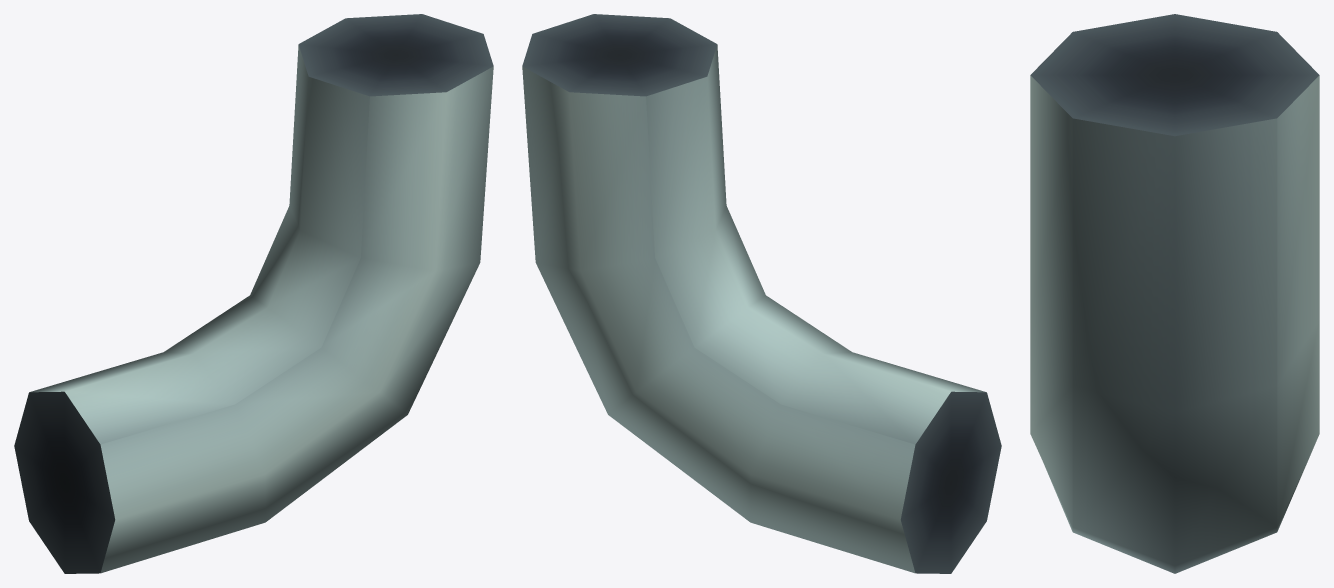
Rendered from drain_90_degrees_up.fbx.
3 renders of one model, left to right at view 1: azimuth 30°, elevation 25°; view 2: azimuth 150°, elevation 25°; view 3: azimuth 270°, elevation 25°, orthographic. The views are drawn at different scales.
Parts seen in each view (by area): view 1: drain_90_degrees_up; view 2: drain_90_degrees_up; view 3: drain_90_degrees_up.
Boxes of the visible parts, x1=… form: drain_90_degrees_up: x1=14, y1=14, x2=493, y2=573; drain_90_degrees_up: x1=522, y1=14, x2=1001, y2=573; drain_90_degrees_up: x1=1030, y1=14, x2=1319, y2=573.
Size of the model in its own units: 31.6 by 31.57 by 13.21.
